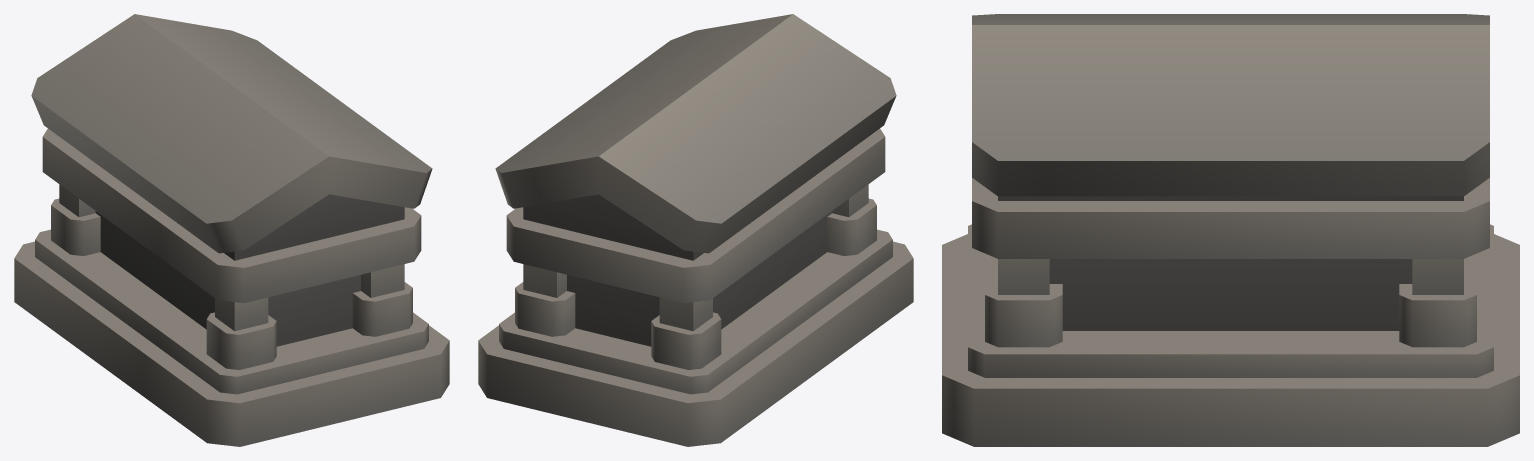
The model's file is crypt.glb.
3 views of the same model, side by side, from view 1: azimuth 30°, elevation 25°; view 2: azimuth 150°, elevation 25°; view 3: azimuth 270°, elevation 25° (orthographic). The views are drawn at different scales.
Parts seen in each view (by area): view 1: crypt; view 2: crypt; view 3: crypt.
Boxes of the visible parts, x1=… form: crypt: x1=14, y1=14, x2=449, y2=446; crypt: x1=478, y1=14, x2=913, y2=446; crypt: x1=942, y1=14, x2=1519, y2=446.
Size of the model in its own units: 0.72 by 0.7316 by 1.12.
1 material, 1 textured.
